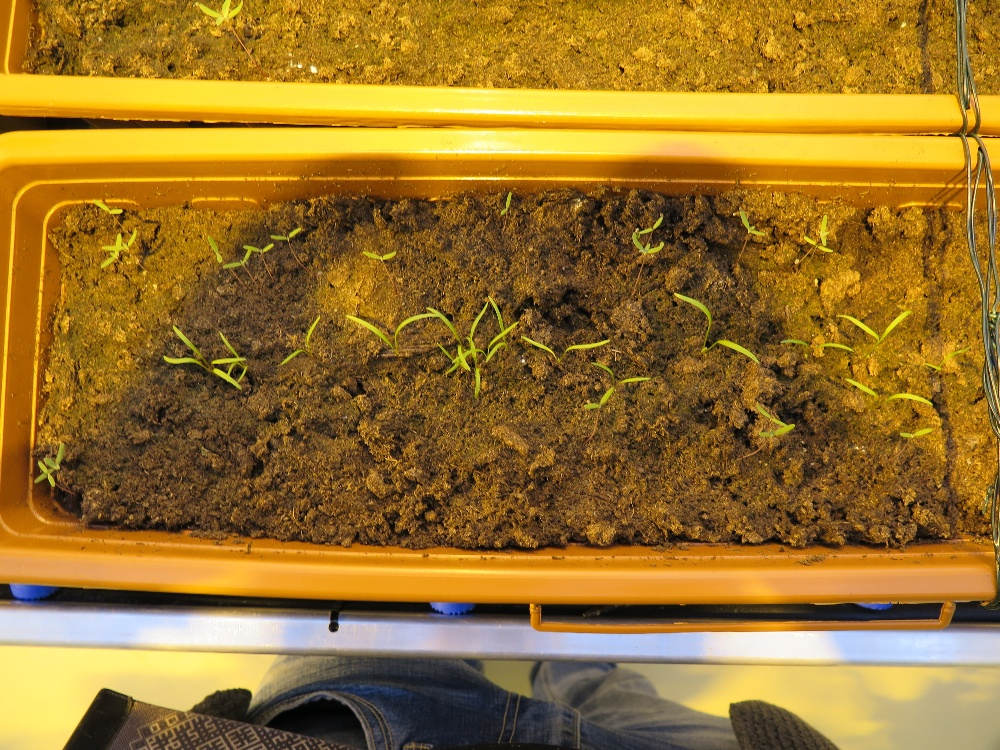crop: (670, 287, 765, 382), (426, 304, 521, 397), (158, 321, 257, 401), (838, 370, 942, 416), (342, 306, 442, 352), (835, 304, 923, 353), (521, 321, 613, 367), (579, 355, 645, 414), (772, 330, 862, 370), (443, 338, 504, 396), (745, 397, 811, 448), (279, 313, 330, 377), (925, 338, 972, 375), (892, 421, 940, 445)
weed: (206, 230, 258, 284), (628, 211, 679, 264), (33, 440, 77, 499), (796, 213, 842, 269), (89, 243, 143, 286), (103, 226, 155, 262), (362, 245, 413, 277), (189, 1, 268, 20), (87, 194, 136, 223), (736, 208, 770, 243), (497, 187, 525, 228), (242, 235, 277, 262), (267, 226, 303, 250)
